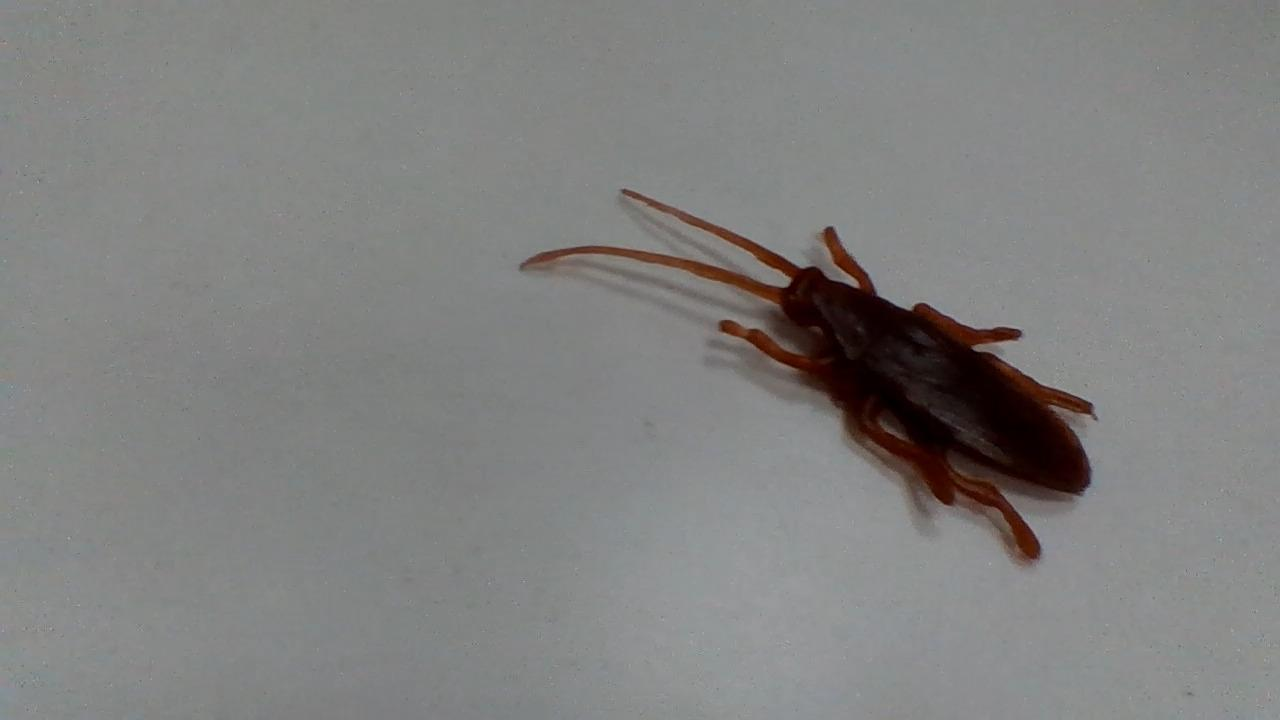cockroach: (517, 172, 1100, 563)
